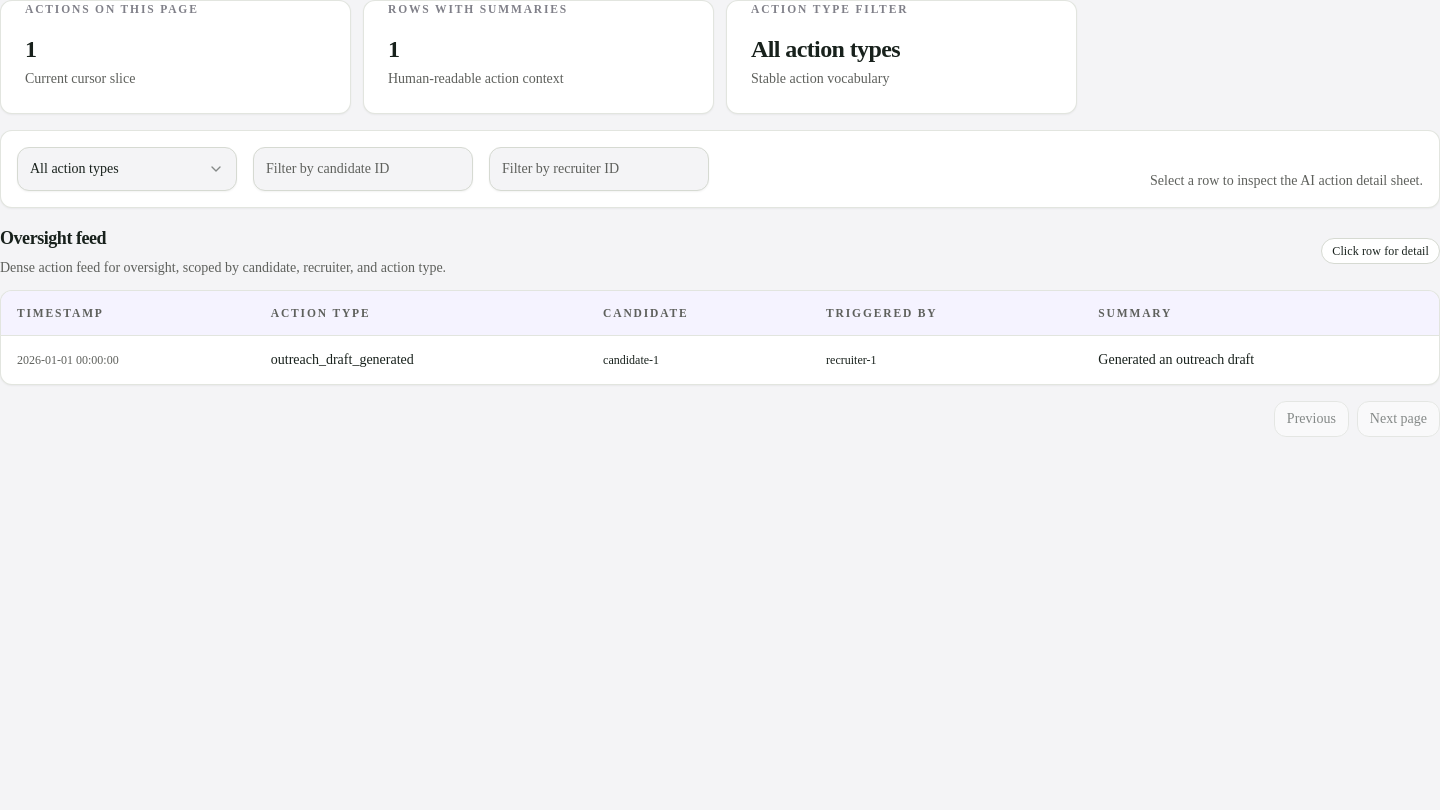
Test: AiActionsTable › opens the detail sheet with the full record when a row is clicked
Click the text "outreach_draft_generated": (342, 359) [255,335,587,384]
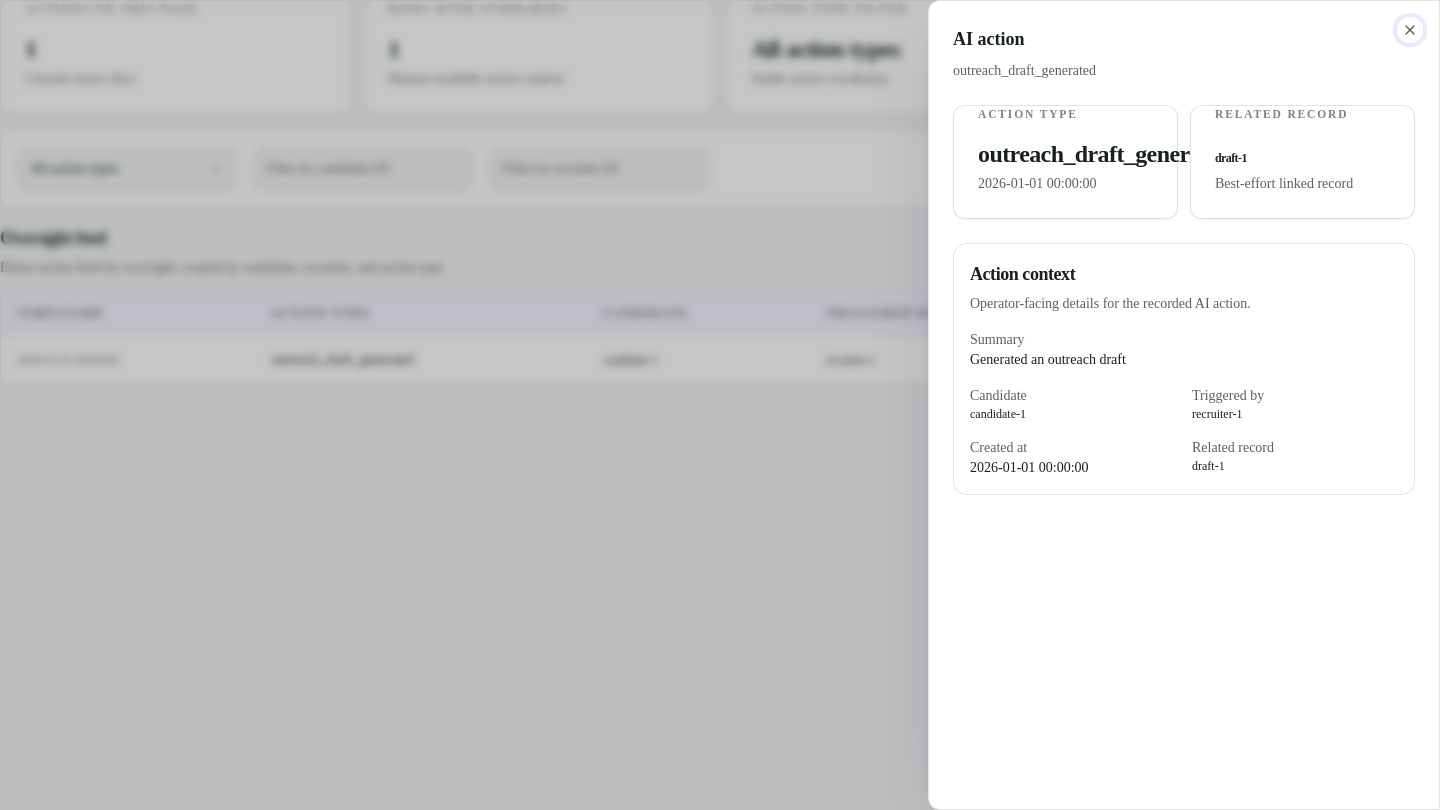
Result: the dialog "AI action" is shown at [928,0,1439,809]
Result: the heading "Action context" is shown at [970,264,1075,284]
Result: the text "Generated an outreach draft" is shown at [970,352,1126,367]
